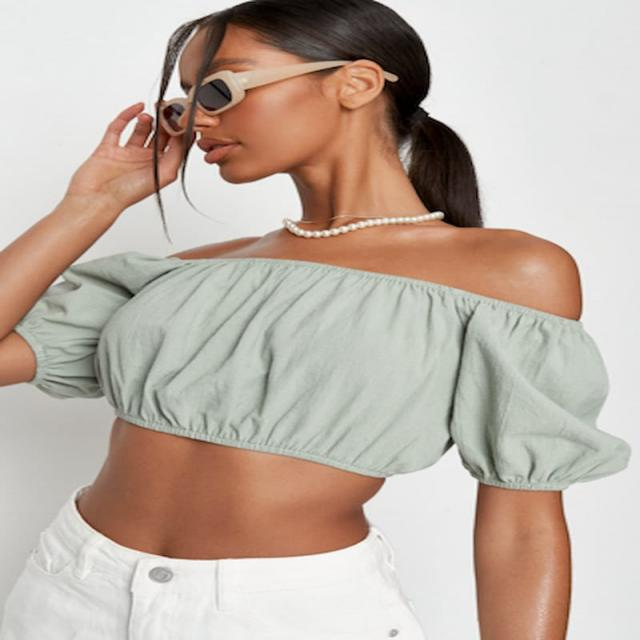clothes: (6, 221, 617, 640)
